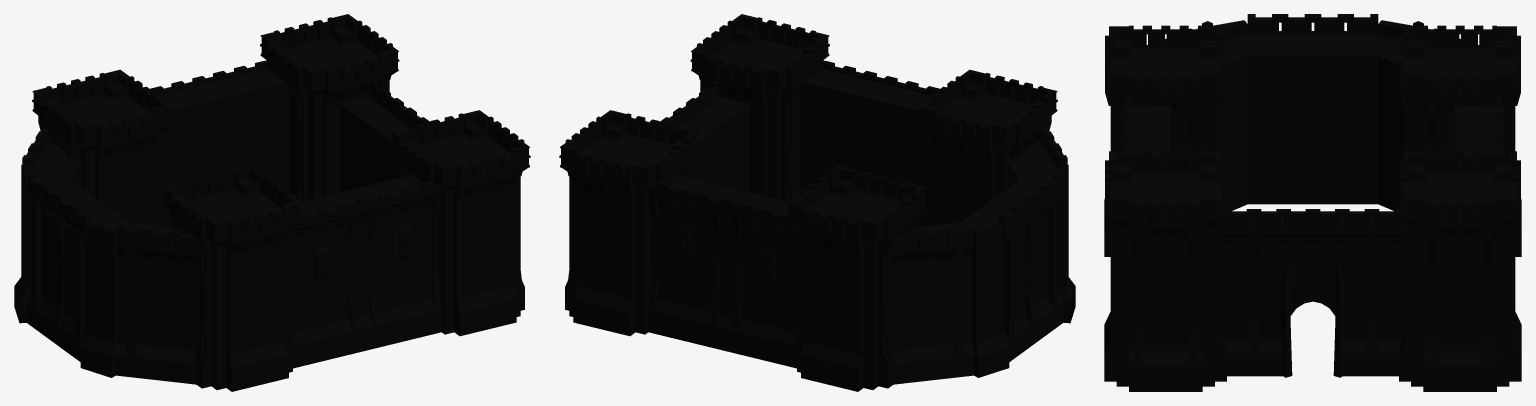
File: Castle_Keep_Courtyard_2__1_.fbx
3 views of the same model, side by side, from view 1: azimuth 30°, elevation 25°; view 2: azimuth 150°, elevation 25°; view 3: azimuth 270°, elevation 25° (orthographic). The views are drawn at different scales.
Visible parts, largest first — view 1: Castle_Keep_Courtyard_2__1_; view 2: Castle_Keep_Courtyard_2__1_; view 3: Castle_Keep_Courtyard_2__1_.
Boxes of the visible parts, x1,y1,x2,y2 form: Castle_Keep_Courtyard_2__1_: (14, 14, 530, 391); Castle_Keep_Courtyard_2__1_: (559, 14, 1075, 391); Castle_Keep_Courtyard_2__1_: (1104, 14, 1521, 391).
Bounding box in the file's own units: 6220 × 2575 × 5100.
1 material, 1 textured.
